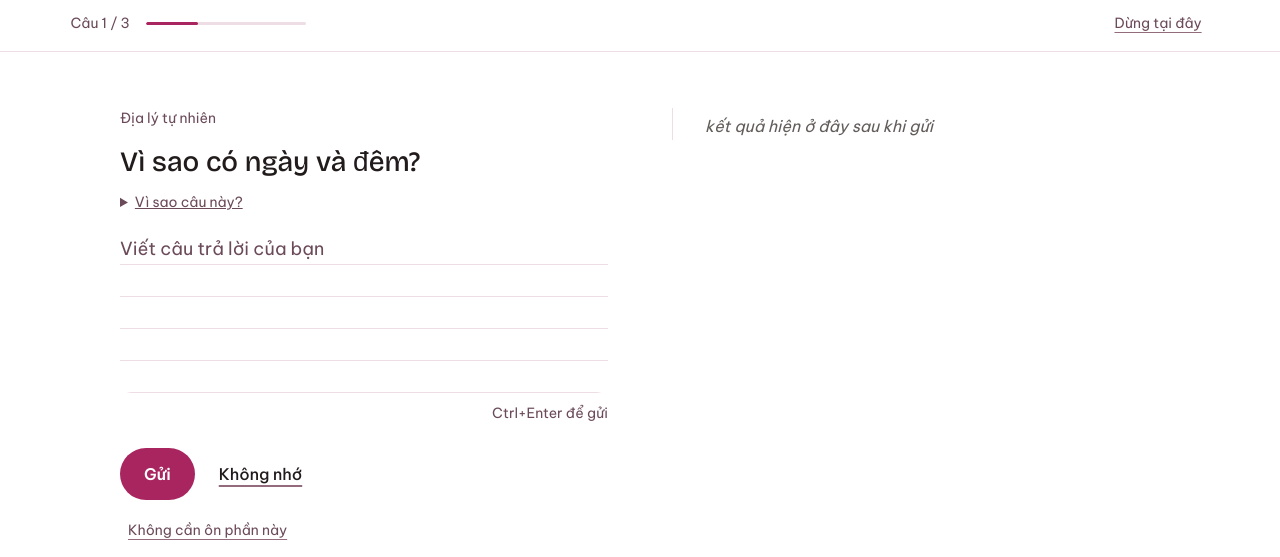
Test: ReviewScreen (T2.15) › submitting shows the answer read-only, clears this device's copy and offers Câu tiếp
This screenshot has width=1280, height=557.
Step 1. Type "Vì Trái Đất tự quay." into the text box labelled "câu trả lời của bạn" → (364, 313), box 120,233 -> 608,393
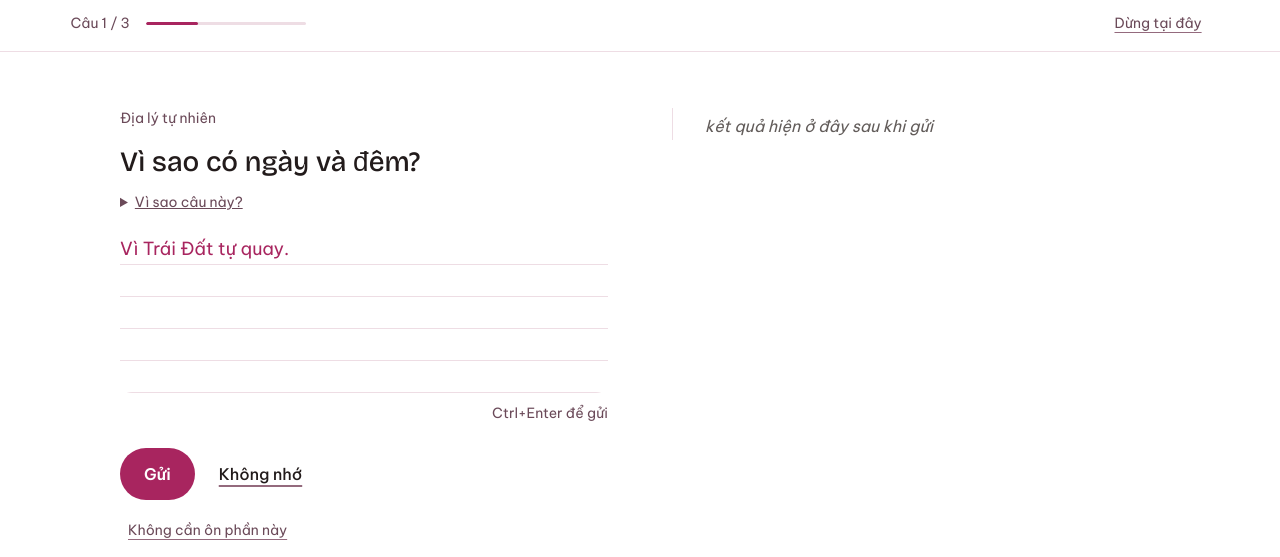
Step 2. Click the button "Gửi" → (157, 474), box 120,448 -> 195,500
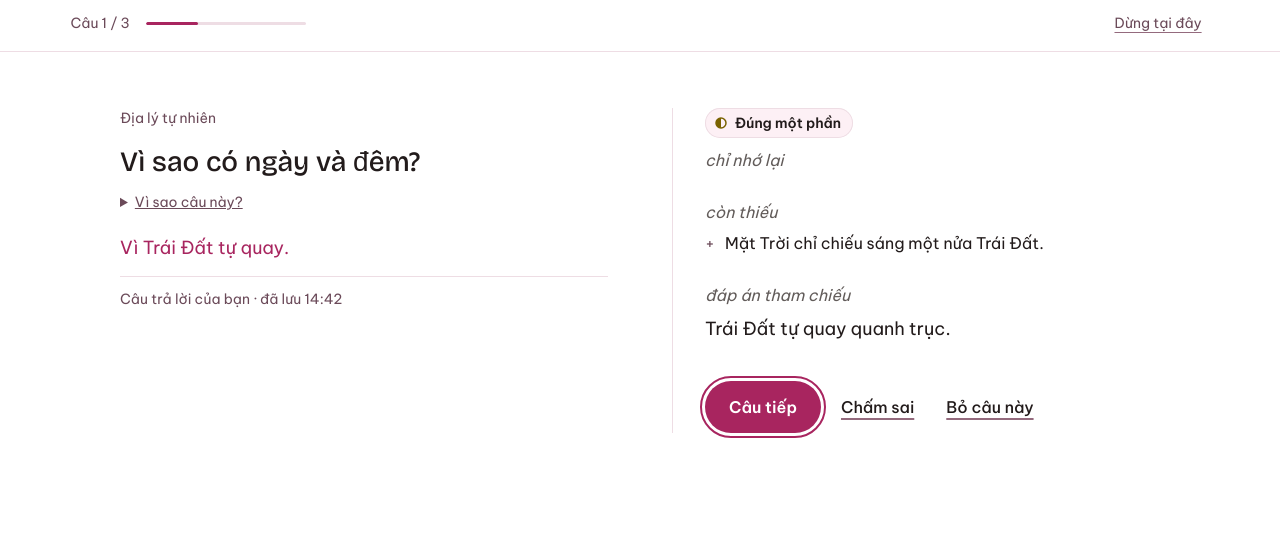
Expected: the text "Vì Trái Đất tự quay." is shown, 120,236 -> 289,259
Expected: the text "Đúng một phần" is shown, 705,108 -> 853,138
Expected: the list item "Mặt Trời chỉ chiếu sáng một nửa Trái Đất." is shown, 725,233 -> 1044,253
